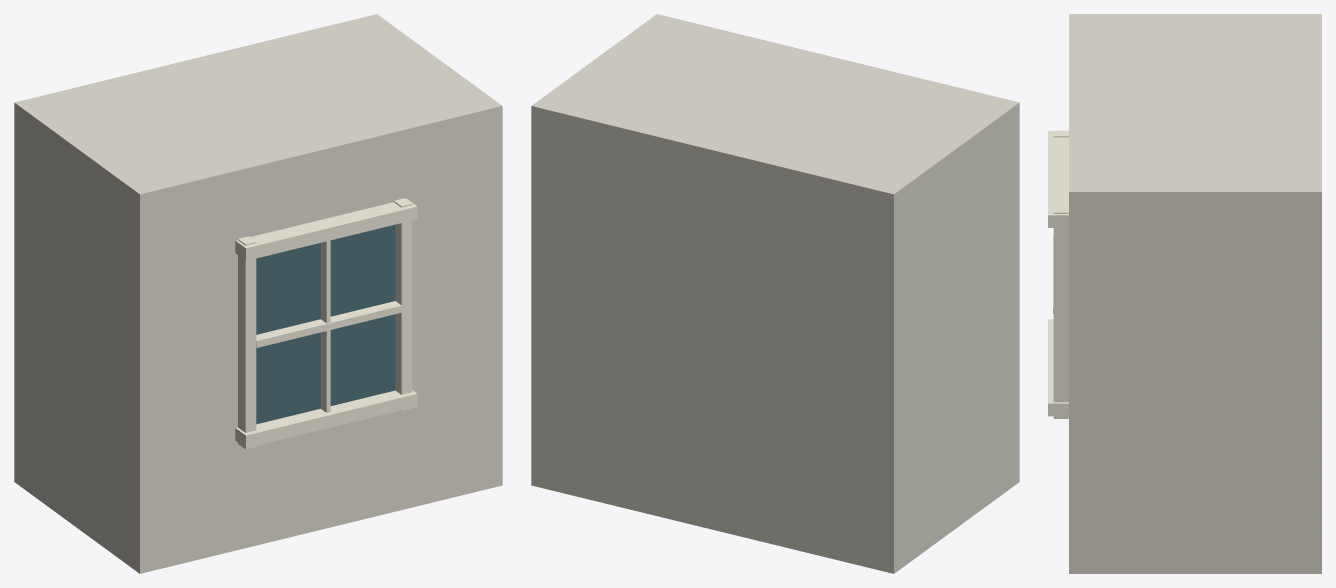
3 views of the same model, side by side, from view 1: azimuth 30°, elevation 25°; view 2: azimuth 150°, elevation 25°; view 3: azimuth 270°, elevation 25° (orthographic).
Parts seen in each view (by area): view 1: QH-A0106_V01_geometry; view 2: QH-A0106_V01_geometry; view 3: QH-A0106_V01_geometry.
Part boxes in pixels (x1,y1,x2,y2): QH-A0106_V01_geometry: [14, 14, 502, 573]; QH-A0106_V01_geometry: [531, 14, 1019, 573]; QH-A0106_V01_geometry: [1048, 14, 1321, 573].
Size of the model in its own units: 3 by 3 by 1.95.
